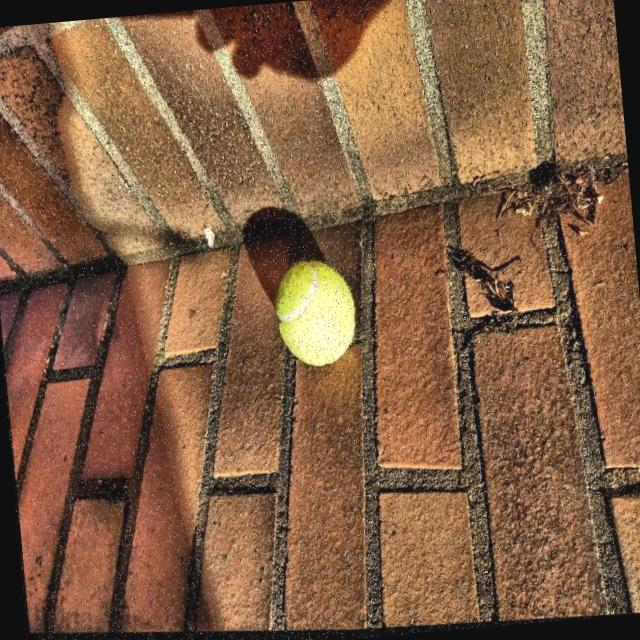Tennis Ball: (266, 253, 365, 382)
